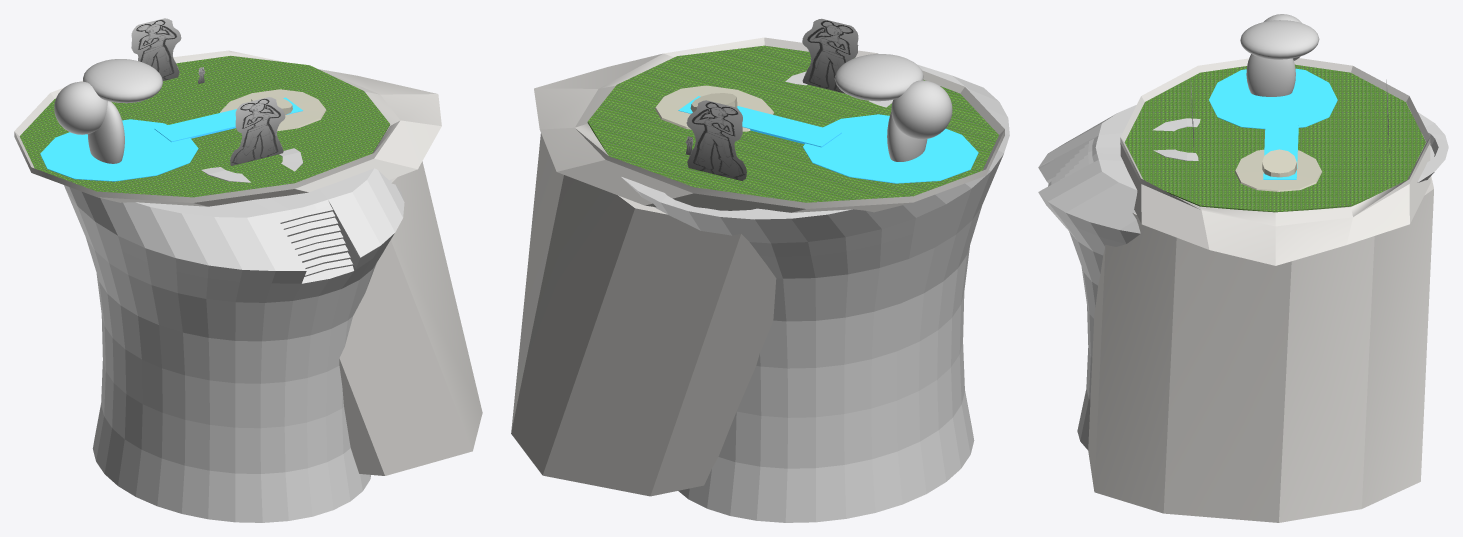
File: part_1_platform.fbx
3 renders of one model, left to right at view 1: azimuth 30°, elevation 25°; view 2: azimuth 150°, elevation 25°; view 3: azimuth 270°, elevation 25°, orthographic. The views are drawn at different scales.
Visible parts, largest first — view 1: Cylinder, PolyShape, Cylinder__2_, Cylinder__1_, Cylinder__4_, Sphere__4_, Tst, Sphere__3_, TSt__2_, Cylinder__3_, Sphere__2_, Cube; view 2: Cylinder, PolyShape, Cylinder__2_, Cylinder__1_, Cylinder__4_, TSt__2_, Sphere__4_, Tst, Sphere__3_, Cube, Cylinder__3_, Sphere__2_; view 3: PolyShape, Cylinder__2_, Cylinder__1_, Cylinder, Cylinder__4_, Sphere__4_, Cylinder__3_, Sphere__2_, Cube, Cylinder__5_.
Part boxes in pixels (bbox=[...]): Cylinder: bbox=[64, 148, 404, 522]; PolyShape: bbox=[339, 161, 482, 475]; Cylinder__2_: bbox=[19, 55, 389, 197]; Cylinder__1_: bbox=[14, 50, 441, 206]; Cylinder__4_: bbox=[40, 119, 198, 181]; Sphere__4_: bbox=[83, 59, 162, 103]; Tst: bbox=[230, 97, 285, 165]; Sphere__3_: bbox=[54, 81, 107, 134]; TSt__2_: bbox=[131, 18, 181, 80]; Cylinder__3_: bbox=[219, 89, 326, 131]; Sphere__2_: bbox=[87, 101, 124, 163]; Cube: bbox=[154, 97, 302, 142]; Cylinder: bbox=[621, 64, 1009, 522]; PolyShape: bbox=[511, 133, 776, 496]; Cylinder__2_: bbox=[587, 45, 998, 202]; Cylinder__1_: bbox=[534, 37, 1004, 212]; Cylinder__4_: bbox=[803, 114, 978, 183]; TSt__2_: bbox=[686, 100, 746, 181]; Sphere__4_: bbox=[834, 54, 923, 101]; Tst: bbox=[802, 18, 858, 93]; Sphere__3_: bbox=[891, 80, 952, 139]; Cube: bbox=[678, 96, 841, 147]; Cylinder__3_: bbox=[655, 85, 773, 131]; Sphere__2_: bbox=[887, 112, 927, 161]; PolyShape: bbox=[1088, 176, 1433, 522]; Cylinder__2_: bbox=[1124, 64, 1425, 212]; Cylinder__1_: bbox=[1120, 58, 1430, 265]; Cylinder: bbox=[1038, 105, 1448, 450]; Cylinder__4_: bbox=[1209, 68, 1337, 129]; Sphere__4_: bbox=[1240, 20, 1319, 59]; Cylinder__3_: bbox=[1235, 149, 1322, 191]; Sphere__2_: bbox=[1246, 54, 1295, 96]; Cube: bbox=[1263, 119, 1298, 179]; Cylinder__5_: bbox=[1262, 149, 1296, 177].
Size of the model in its own units: 15584 by 14073 by 14313.
